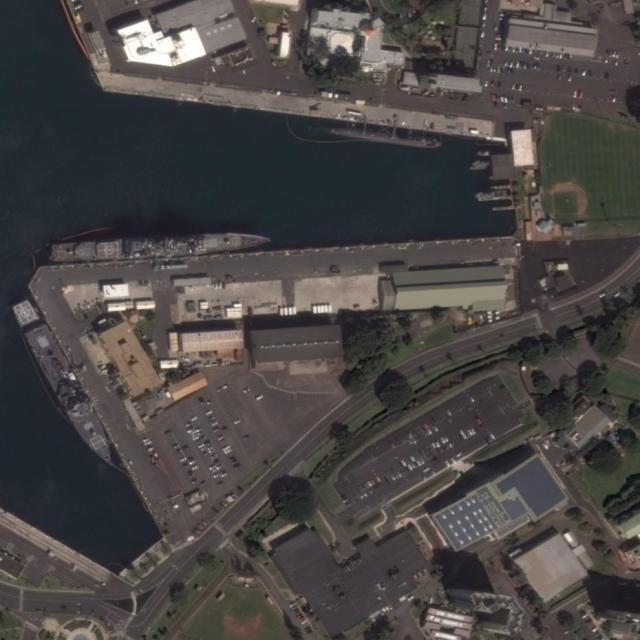Cruiser: (50, 231, 274, 262)
Destroyer: (10, 296, 118, 469)
Submarine: (329, 127, 440, 148)
